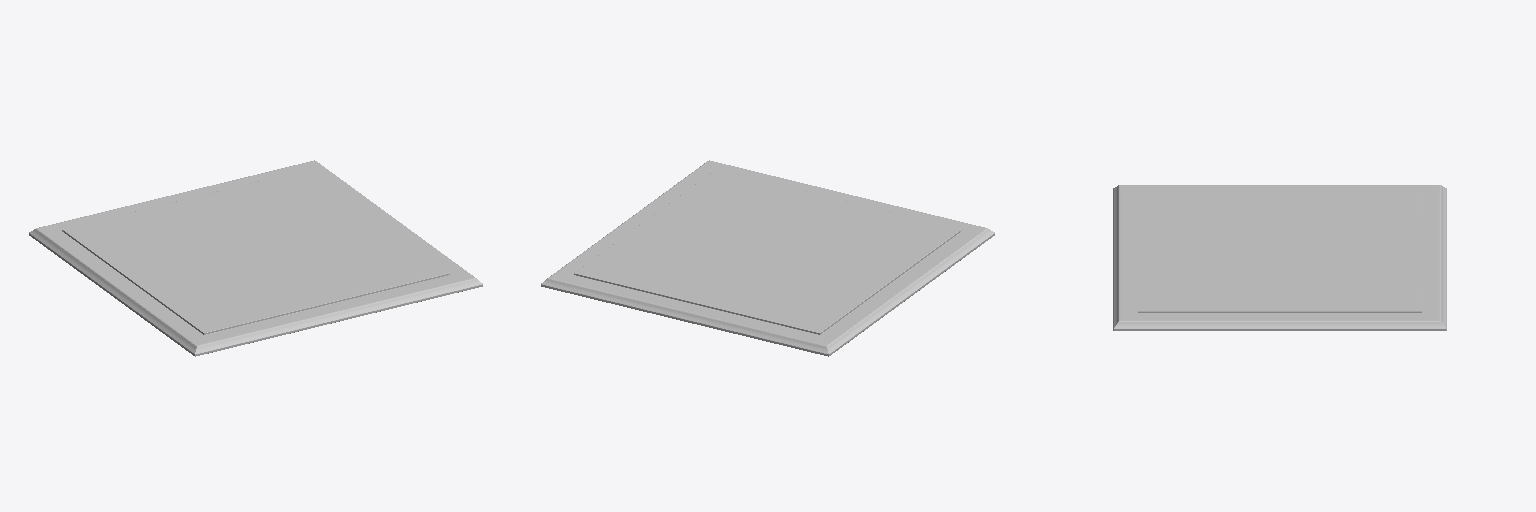
The model's file is chess_board.obj.
3 renders of one model, left to right at view 1: azimuth 30°, elevation 25°; view 2: azimuth 150°, elevation 25°; view 3: azimuth 270°, elevation 25°, orthographic.
Visible parts, largest first — view 1: 12951_Stone_Chess_Board_v1_L3.001; view 2: 12951_Stone_Chess_Board_v1_L3.001; view 3: 12951_Stone_Chess_Board_v1_L3.001.
Boxes of the visible parts, x1=… form: 12951_Stone_Chess_Board_v1_L3.001: x1=29, y1=160, x2=482, y2=356; 12951_Stone_Chess_Board_v1_L3.001: x1=541, y1=160, x2=994, y2=356; 12951_Stone_Chess_Board_v1_L3.001: x1=1113, y1=185, x2=1446, y2=330.
Size of the model in its own units: 50.8 by 1.58 by 50.8.